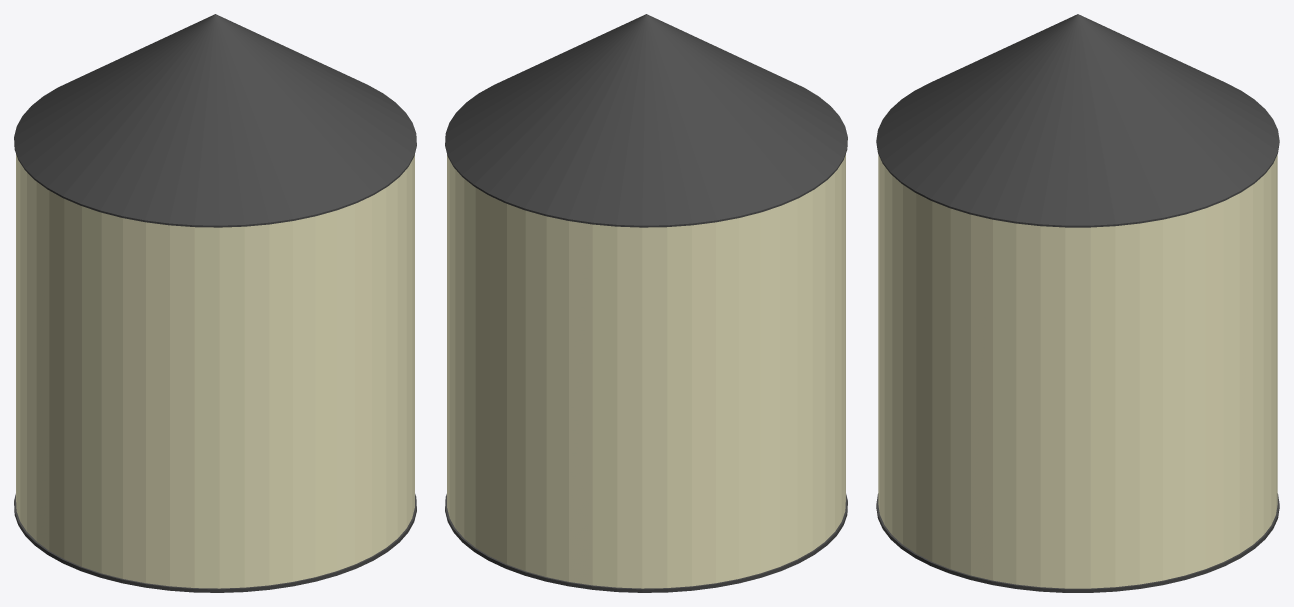
The model's file is Circle House.fbx.
3 renders of one model, left to right at view 1: azimuth 30°, elevation 25°; view 2: azimuth 150°, elevation 25°; view 3: azimuth 270°, elevation 25°, orthographic.
Parts seen in each view (by area): view 1: building_001; view 2: building_001; view 3: building_001.
Boxes of the visible parts, x1,y1,x2,y2 form: building_001: [14, 14, 416, 592]; building_001: [445, 14, 847, 592]; building_001: [876, 14, 1279, 592].
Bounding box in the file's own units: 2016 × 2730 × 2020.
